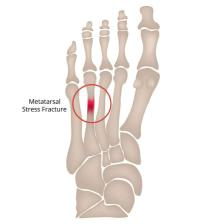stress-fracture: (67, 29, 155, 199)
